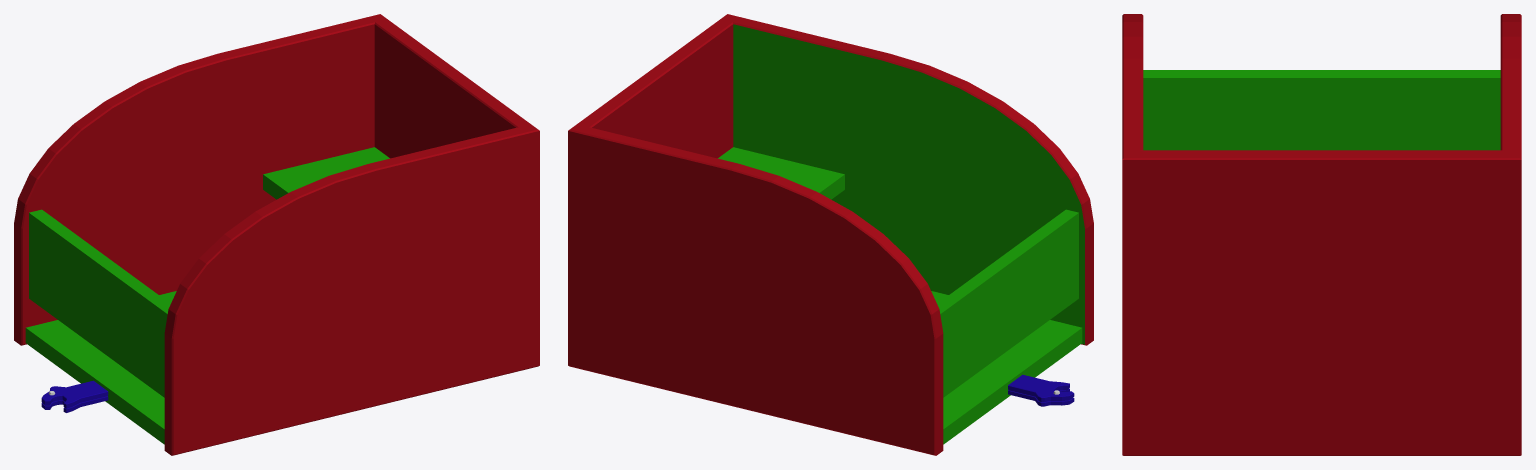
The model's file is TRAIN_seat.fbx.
3 views of the same model, side by side, from view 1: azimuth 30°, elevation 25°; view 2: azimuth 150°, elevation 25°; view 3: azimuth 270°, elevation 25° (orthographic). The views are drawn at different scales.
Parts seen in each view (by area): view 1: TRAIN_seat; view 2: TRAIN_seat; view 3: TRAIN_seat.
Part boxes in pixels (<box>): TRAIN_seat: <box>14,14,539,455</box>; TRAIN_seat: <box>568,14,1093,455</box>; TRAIN_seat: <box>1122,14,1521,455</box>.
Bounding box in the file's own units: 1.2 × 0.6485 × 0.7881.
